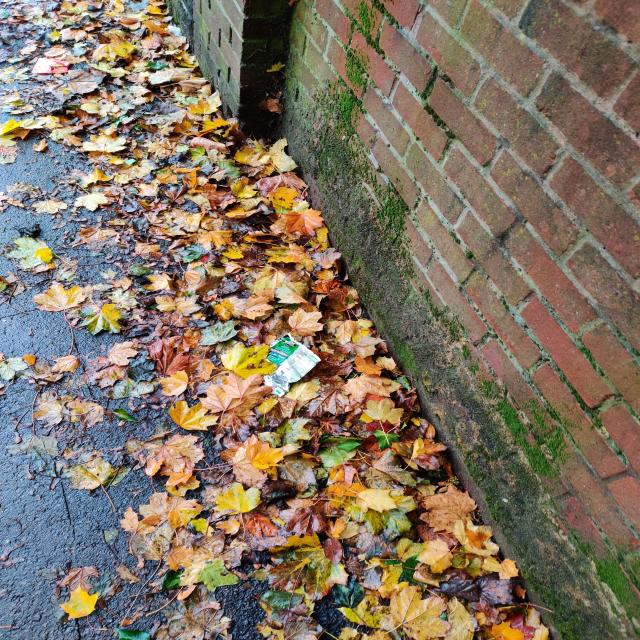litter: (244, 326, 329, 400), (25, 52, 85, 81)
